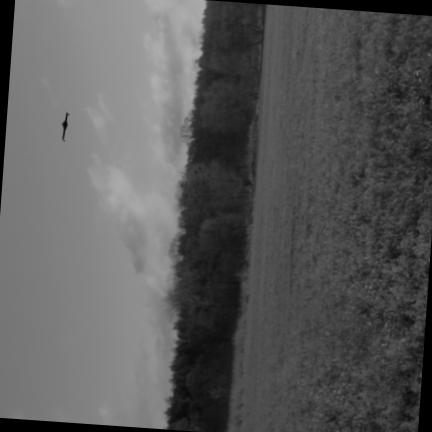Shahed: (61, 111, 69, 140)
